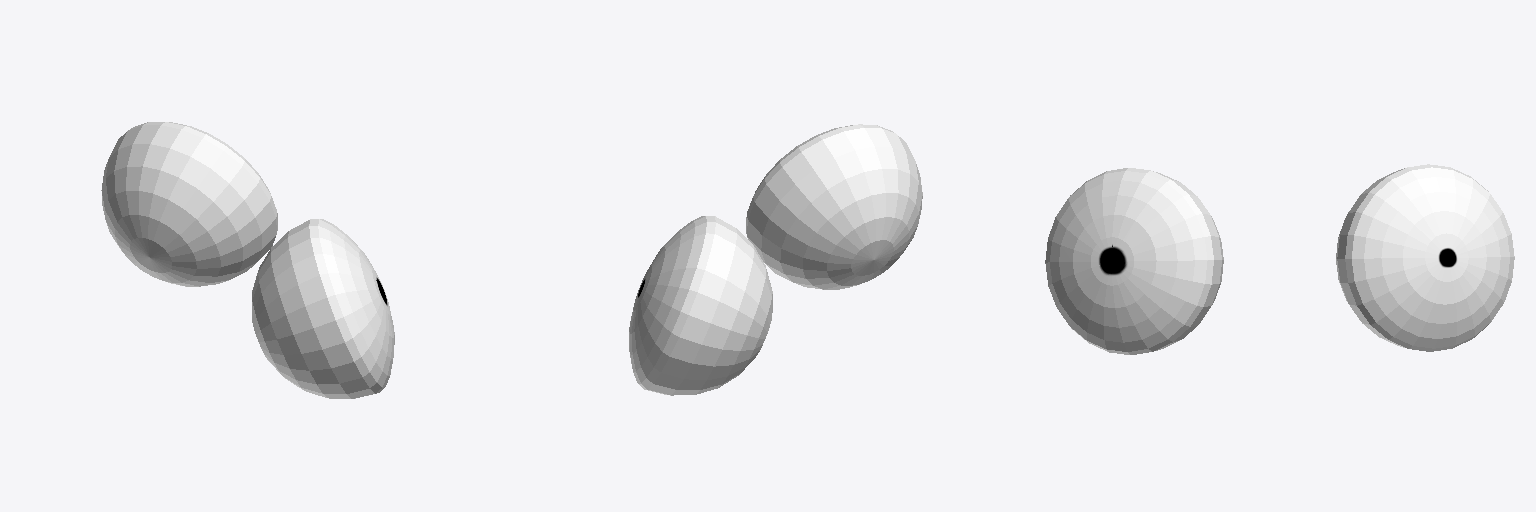
3 views of the same model, side by side, from view 1: azimuth 30°, elevation 25°; view 2: azimuth 150°, elevation 25°; view 3: azimuth 270°, elevation 25° (orthographic).
Parts seen in each view (by area): view 1: ojos; view 2: ojos; view 3: ojos.
Boxes of the visible parts, <box> form: ojos: <box>101,122,394,398</box>; ojos: <box>629,124,922,395</box>; ojos: <box>1045,164,1514,354</box>.
Bounding box in the file's own units: 0.1487 × 0.176 × 0.4503.
Materials: 1 (1 with a texture image).